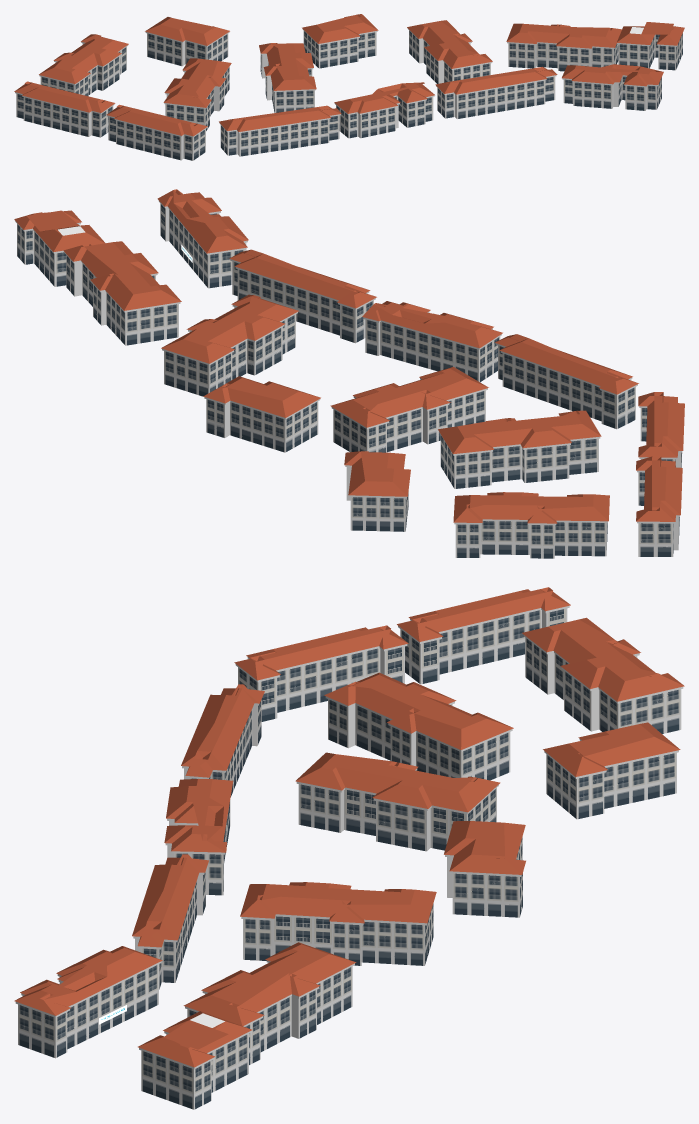
The model's file is dutchvillage.glb.
3 renders of one model, top to bottom at view 1: azimuth 30°, elevation 25°; view 2: azimuth 150°, elevation 25°; view 3: azimuth 270°, elevation 25°, orthographic. The views are drawn at different scales.
Visible parts, largest first — view 1: dutchvillage_lod0; view 2: dutchvillage_lod0; view 3: dutchvillage_lod0.
Boxes of the visible parts, x1,y1,x2,y2 form: dutchvillage_lod0: (14,14,684,160); dutchvillage_lod0: (14,189,684,558); dutchvillage_lod0: (14,587,684,1109).
Size of what is drawn, in the model's own units: 239 by 12.41 by 141.
Materials: 5 (3 with a texture image).
